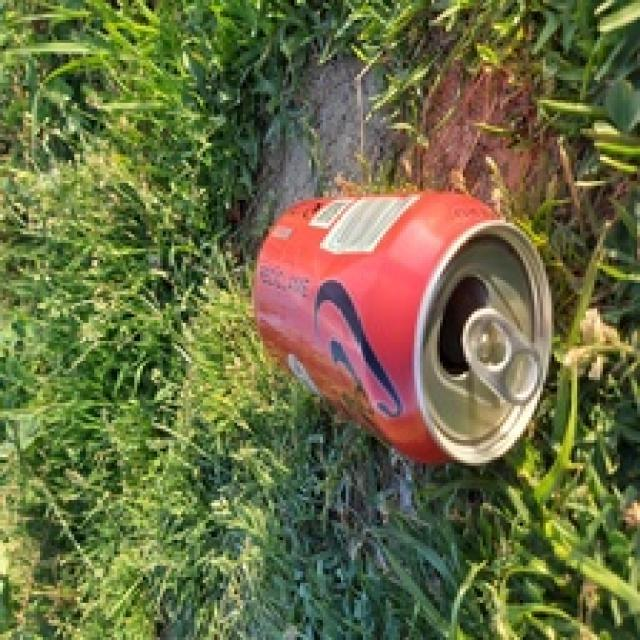recyclable: (247, 190, 553, 467)
